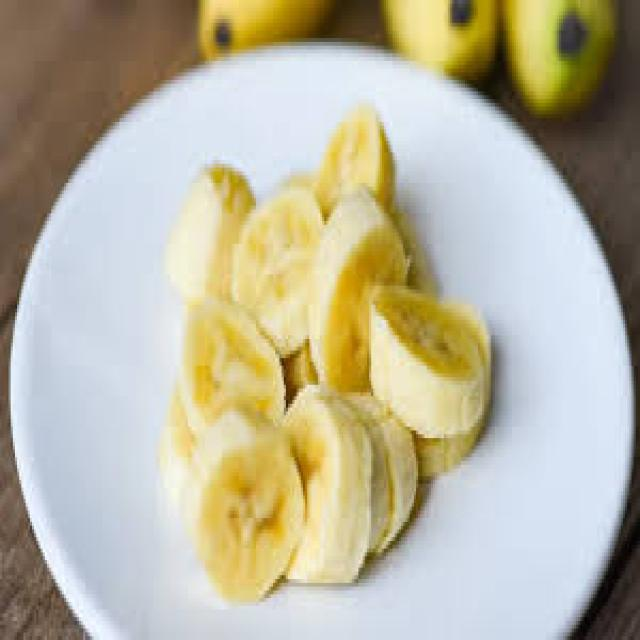pisang: (158, 129, 492, 594), (510, 3, 619, 98), (193, 0, 354, 60), (386, 0, 508, 76)
